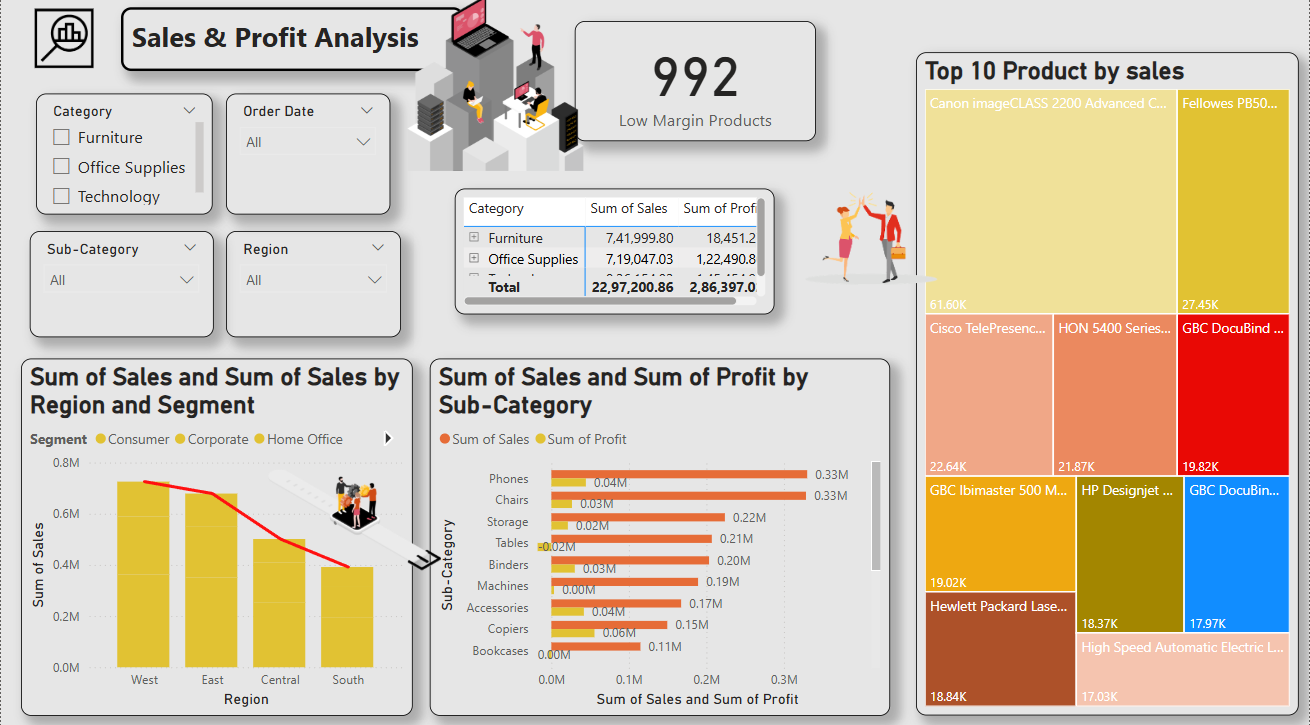

What the dashboard file says about the page in this screenshot:
{"tool":"powerbi","page":{"name":"Sales & Profit Analysis","canvas":[1280,720],"ordinal":2},"visuals":[{"type":"clusteredBarChart","fields":{"Category":["Sample - Superstore.Sub-Category"],"Y":["Sum(Sample - Superstore.Sales)","Sum(Sample - Superstore.Profit)"]},"box":[419.9,359.5,450.1,349.9],"z":0},{"type":"lineStackedColumnComboChart","fields":{"Category":["Sample - Superstore.Region"],"Y":["Sum(Sample - Superstore.Sales)"],"Series":["Sample - Superstore.Segment"],"Y2":["Sum(Sample - Superstore.Sales)"]},"box":[19.2,359.5,382.8,349.9],"z":1000},{"type":"pivotTable","fields":{"Rows":["Sample - Superstore.Category","Sample - Superstore.Sub-Category"],"Values":["Sum(Sample - Superstore.Sales)","Sum(Sample - Superstore.Profit)"]},"box":[443.9,193.2,313,123.5],"z":2000},{"type":"image","box":[28.1,12.2,67.3,68.5],"z":3000},{"type":"textbox","box":[117.4,15.9,335.1,62.4],"z":4000},{"type":"slicer","fields":{"Values":["Sample - Superstore.Category"]},"box":[34.3,100.2,172.9,118],"z":5000},{"type":"slicer","fields":{"Values":["Sample - Superstore.Region"]},"box":[219.6,234.6,171.5,104.3],"z":6000},{"type":"slicer","fields":{"Values":["Sample - Superstore.Sub-Category"]},"box":[28.1,234.8,179.8,103.9],"z":7000},{"type":"slicer","fields":{"Values":["Sample - Superstore.Order Date"]},"box":[219.6,100.2,160.5,118],"z":8000},{"type":"treemap","title":"Top 10  Product by sales","fields":{"Details":["Sample - Superstore.Product Name"],"Values":["Sum(Sample - Superstore.Sales)"]},"box":[894.7,60.4,374.6,649.1],"z":9000},{"type":"card","fields":{"Values":["Sample - Superstore.Low Margin Products"]},"box":[561.3,29.3,236,117.4],"z":10000},{"type":"image","box":[391.1,0,185.2,181.1],"z":11000},{"type":"image","box":[256.6,447.3,178.4,140],"z":12000},{"type":"image","box":[770.4,181,159,123.5],"z":13000}]}

Visuals, with their boxes in screenshot pixels (x1, y1, x2, y2), scaled from the page's 1280x720 canvas onto the 1310x725 screenshot:
clusteredBarChart - Sample - Superstore.Sub-Category x Sum(Sample - Superstore.Sales): Rect(430, 362, 890, 714)
lineStackedColumnComboChart - Sample - Superstore.Region x Sum(Sample - Superstore.Sales): Rect(20, 362, 411, 714)
pivotTable - Sample - Superstore.Category x Sample - Superstore.Sub-Category: Rect(454, 195, 775, 319)
image: Rect(29, 12, 98, 81)
textbox: Rect(120, 16, 463, 79)
slicer - Sample - Superstore.Category: Rect(35, 101, 212, 220)
slicer - Sample - Superstore.Region: Rect(225, 236, 400, 341)
slicer - Sample - Superstore.Sub-Category: Rect(29, 236, 213, 341)
slicer - Sample - Superstore.Order Date: Rect(225, 101, 389, 220)
"Top 10  Product by sales" treemap: Rect(916, 61, 1299, 714)
card - Sample - Superstore.Low Margin Products: Rect(574, 30, 816, 148)
image: Rect(400, 0, 590, 182)
image: Rect(263, 450, 445, 591)
image: Rect(788, 182, 951, 307)
